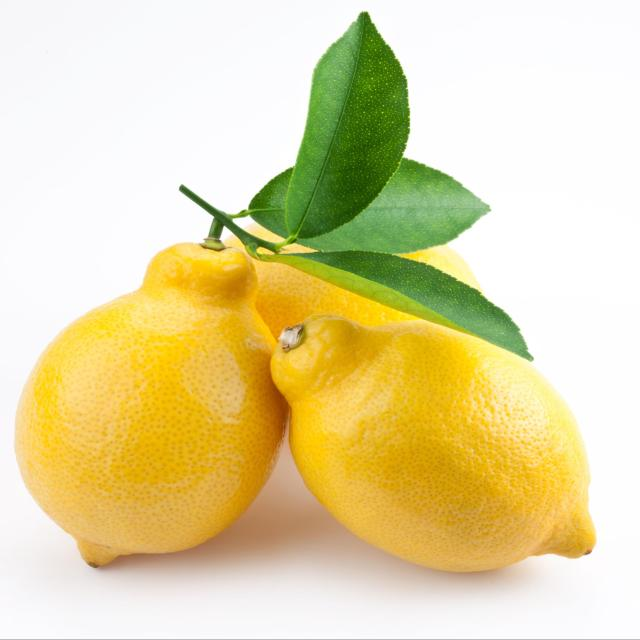lemon: (262, 308, 602, 584)
